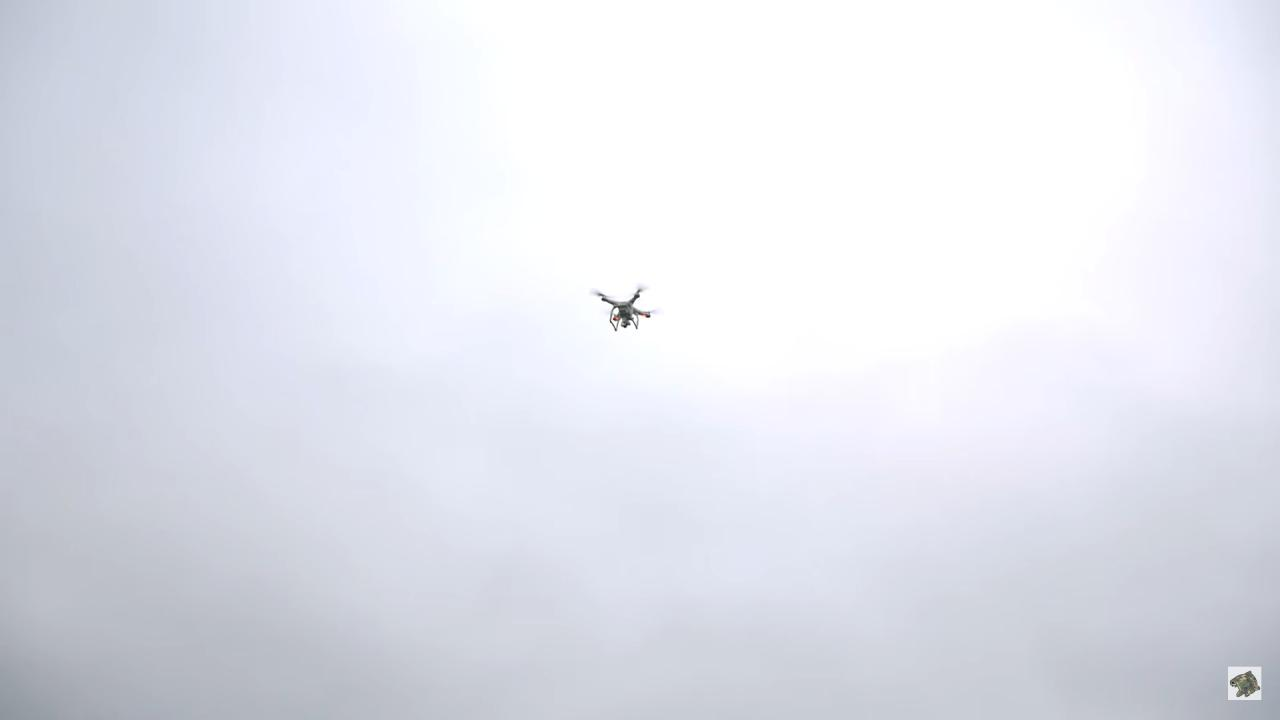Drone: (583, 279, 665, 337)
